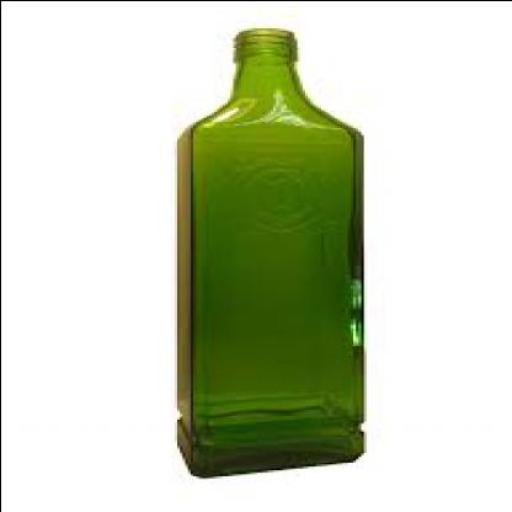glass: (178, 25, 366, 476)
